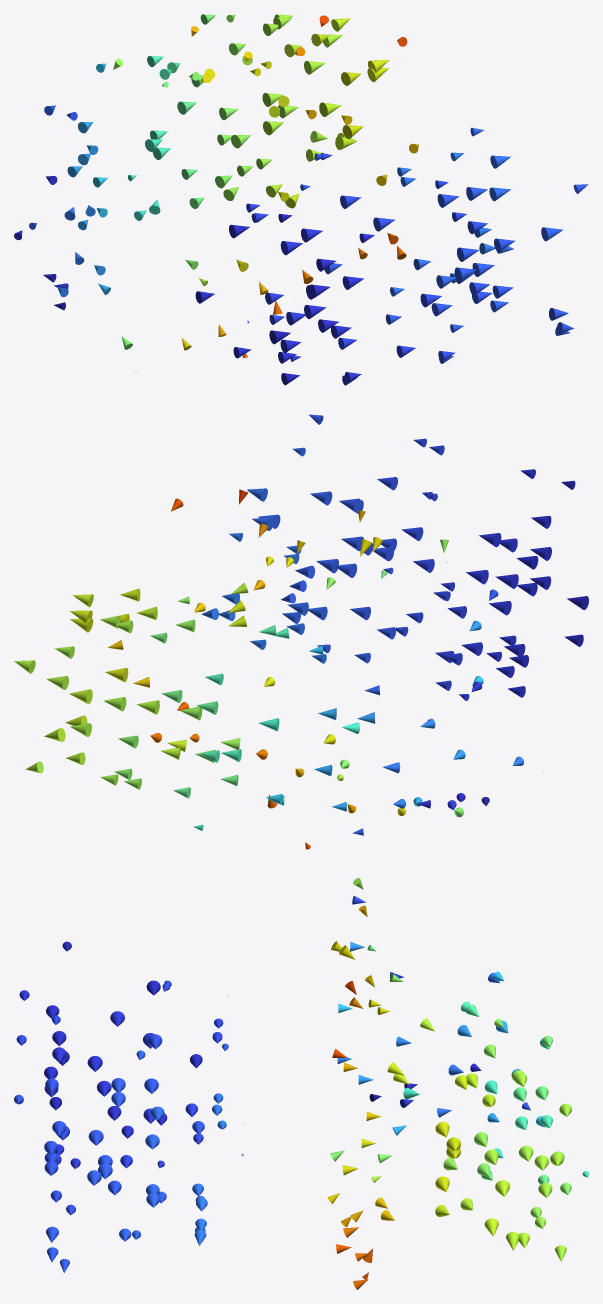
The model's file is LineasCorrienteN2-H2O_mh2-2.70_V-0.8.glb.
The picture shows the model from 3 angles, top to bottom: view 1: azimuth 30°, elevation 25°; view 2: azimuth 150°, elevation 25°; view 3: azimuth 270°, elevation 25°; orthographic projection.
Bounding box in the file's own units: 0.000974 × 0.000819 × 0.00123.
Materials: 2 (2 with a texture image).
